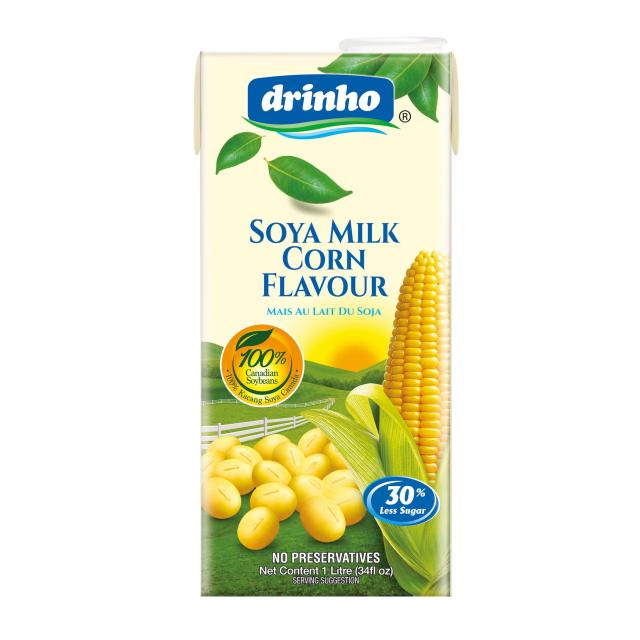drink carton: (190, 44, 458, 604)
